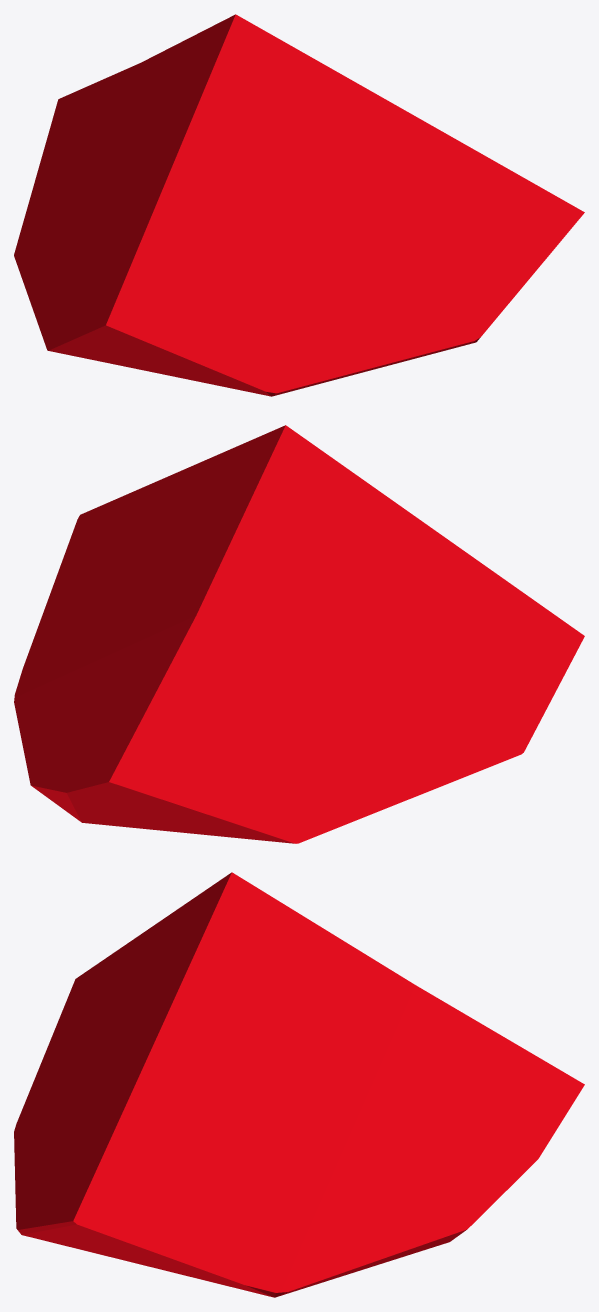
The model's file is tomato_cut_cut_cut.glb.
The picture shows the model from 3 angles, top to bottom: view 1: azimuth 30°, elevation 25°; view 2: azimuth 150°, elevation 25°; view 3: azimuth 270°, elevation 25°; orthographic projection. The views are drawn at different scales.
Visible parts, largest first — view 1: tomato_cut_cut_cut; view 2: tomato_cut_cut_cut; view 3: tomato_cut_cut_cut.
Boxes of the visible parts, bbox=[...] form: tomato_cut_cut_cut: bbox=[14, 14, 584, 396]; tomato_cut_cut_cut: bbox=[14, 425, 584, 843]; tomato_cut_cut_cut: bbox=[14, 872, 584, 1297].
Bounding box in the file's own units: 0.2051 × 0.1487 × 0.2067.
